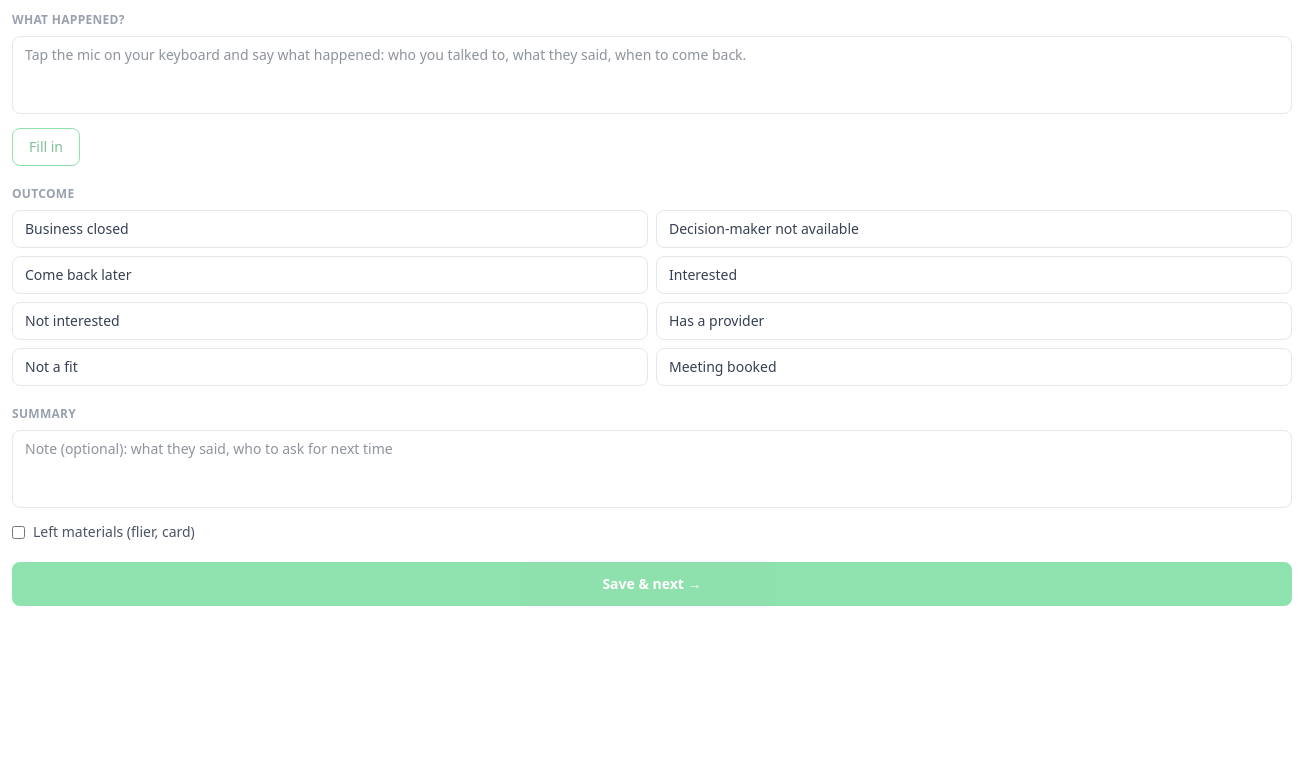
Test: LogVisitForm: Fill in › says when the come-back day was estimated
This screenshot has width=1304, height=763.
Type "owner is back next week" into the text box labelled "What happened?" at [652, 75], box [12,36,1292,114]
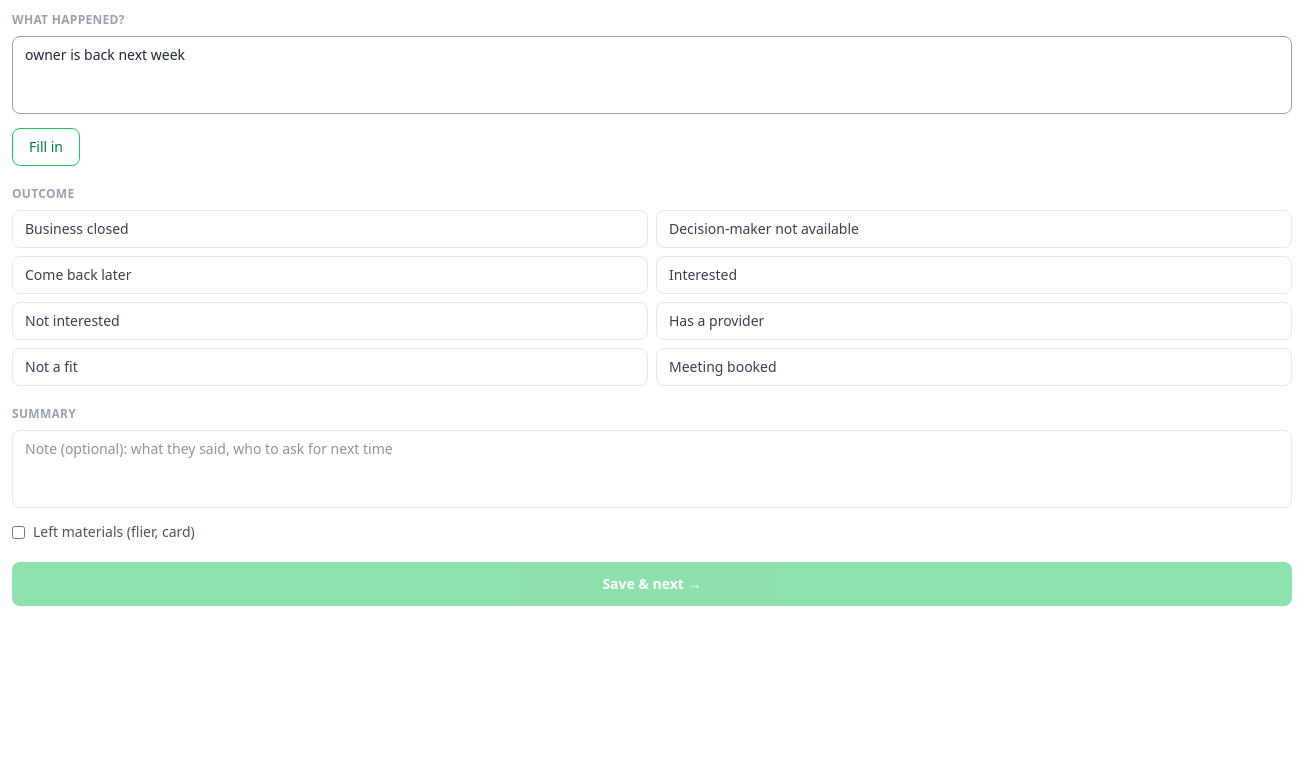
Click the button "Fill in" at [46, 147], box [12,128,80,166]
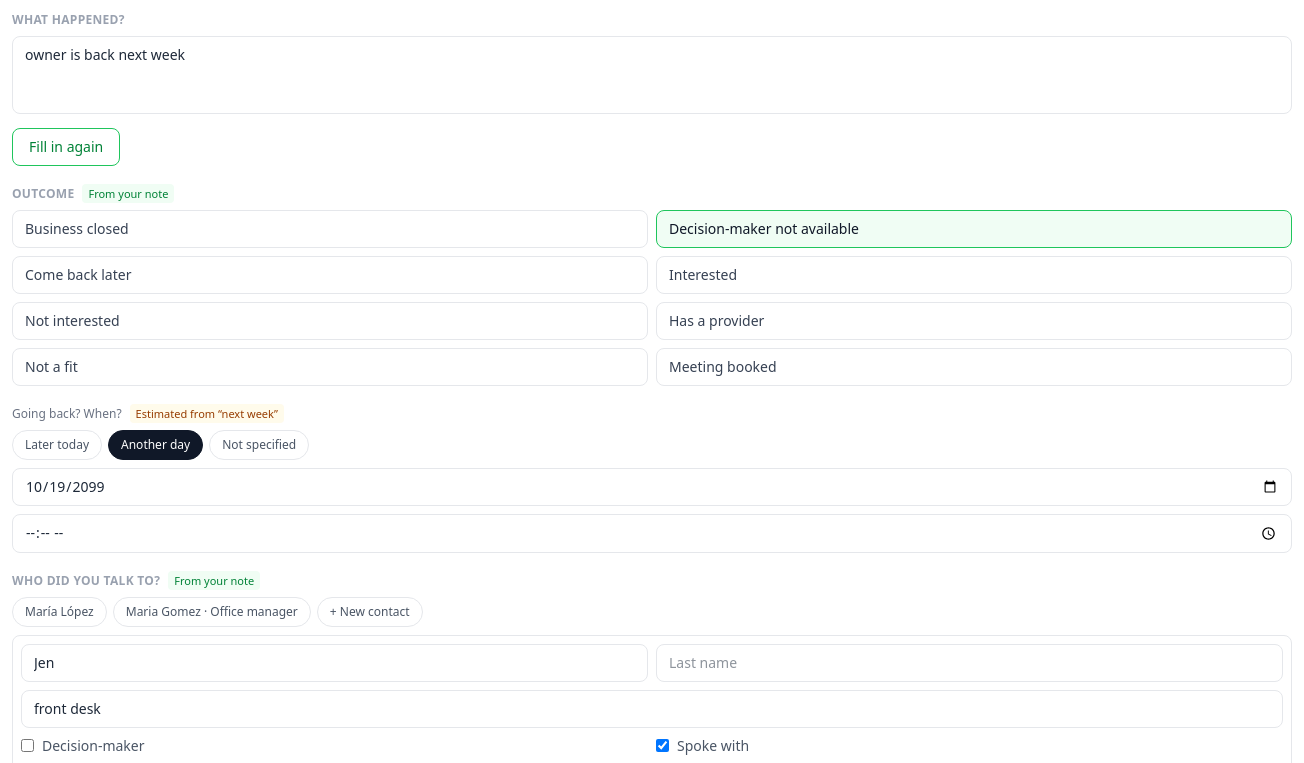
expect the text "Estimated from “next week”" is shown: met, box [130,404,284,423]
Click the button "Not specified" at [259, 445], box [209,430,309,460]
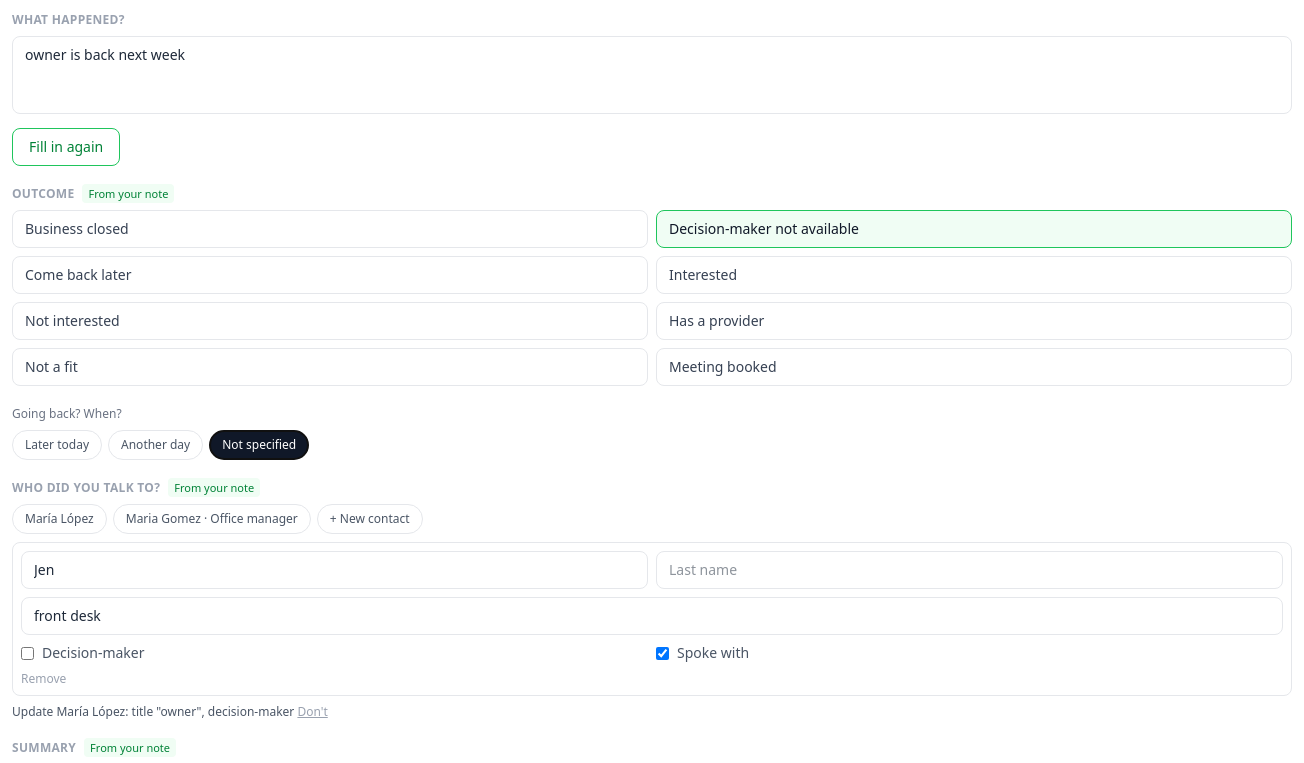
expect the text "Estimated from “next week”" is gone: met
